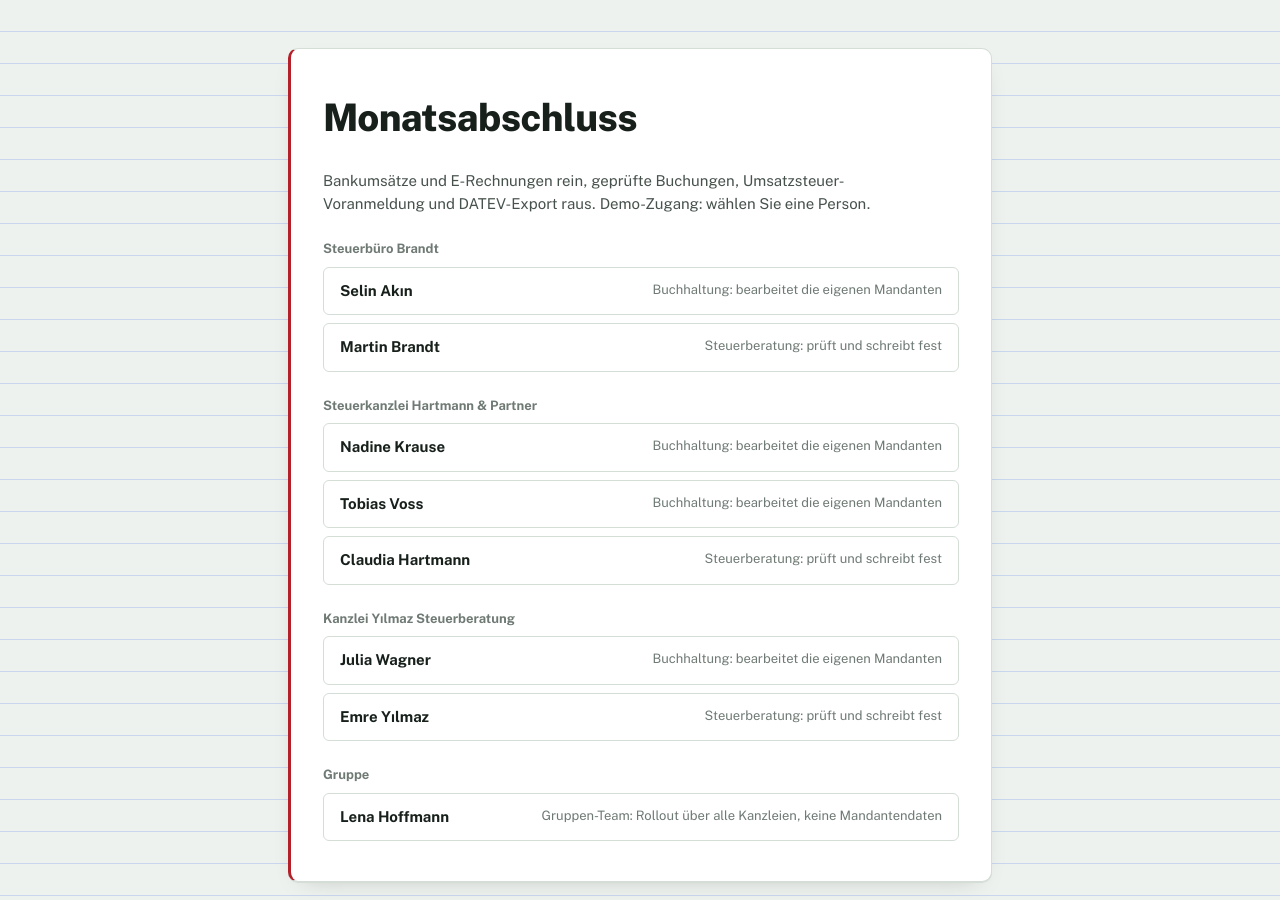
Test case: signing in › shows why sign-in failed
The width and height of the screenshot is (1280, 900).
What coordinates should you click on to do the following:
click the button "Selin Akın Buchhaltung: bearbeitet die eigenen Mandanten"
I would click on:
 (376, 290)
Its box is [323, 266, 959, 315].
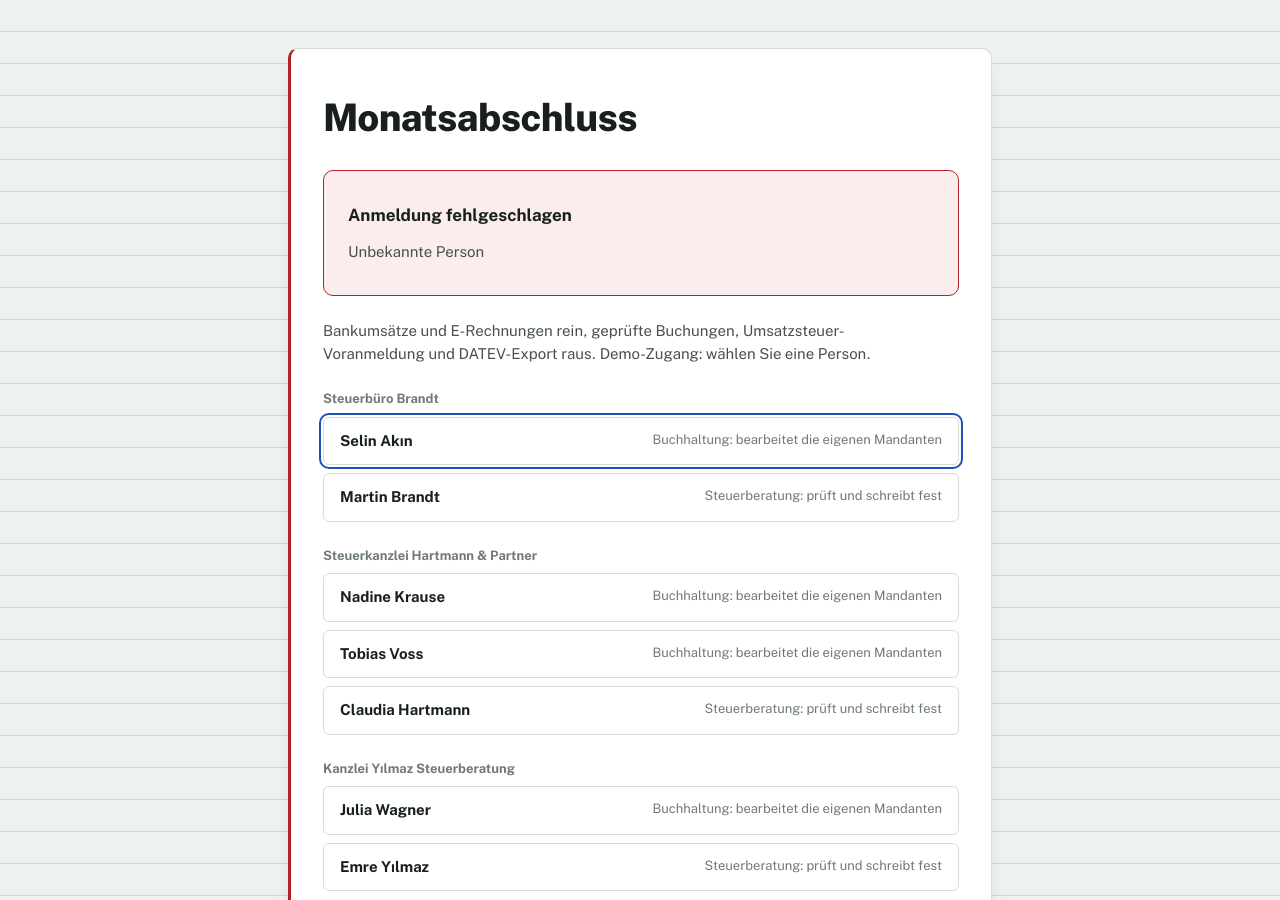
Check: the message shows "Unbekannte Person", box [348, 242, 484, 260]
